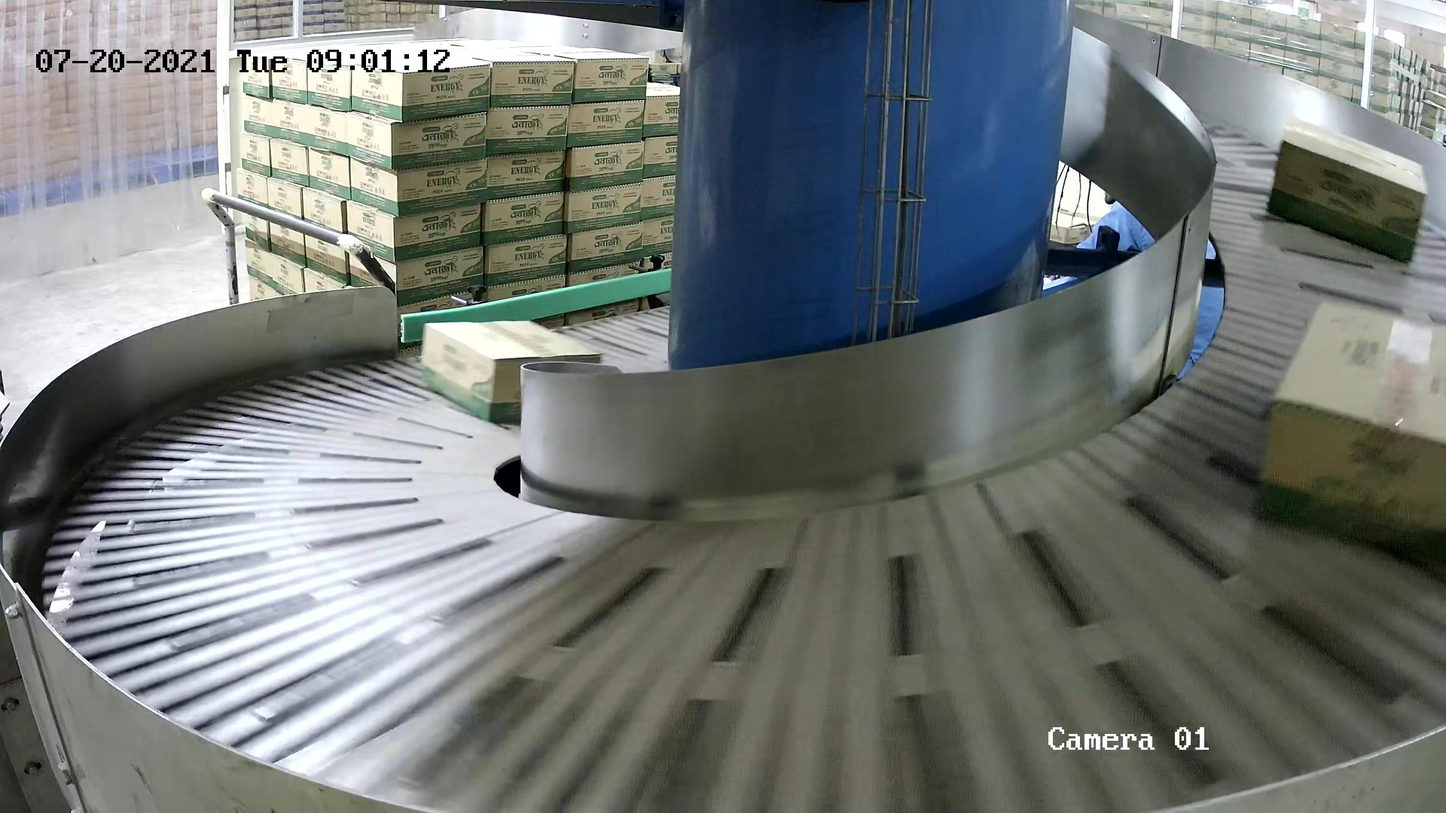Box: (1252, 291, 1446, 563), (1264, 112, 1429, 264), (418, 317, 606, 424)
